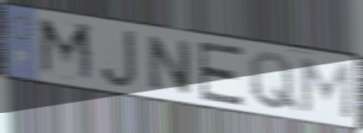E: (196, 40, 246, 108)
J: (99, 28, 140, 90)
M: (37, 15, 98, 87), (299, 56, 354, 122)
N: (146, 33, 194, 97)
Q: (247, 50, 302, 115)
